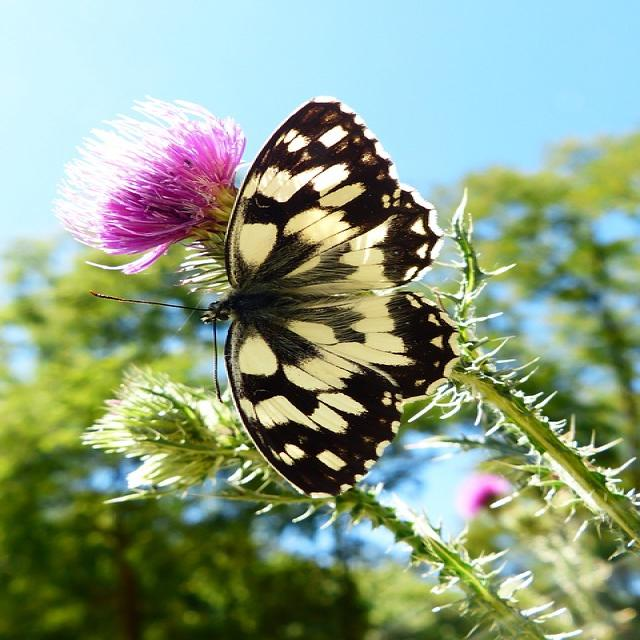butterfly: (177, 98, 463, 500)
